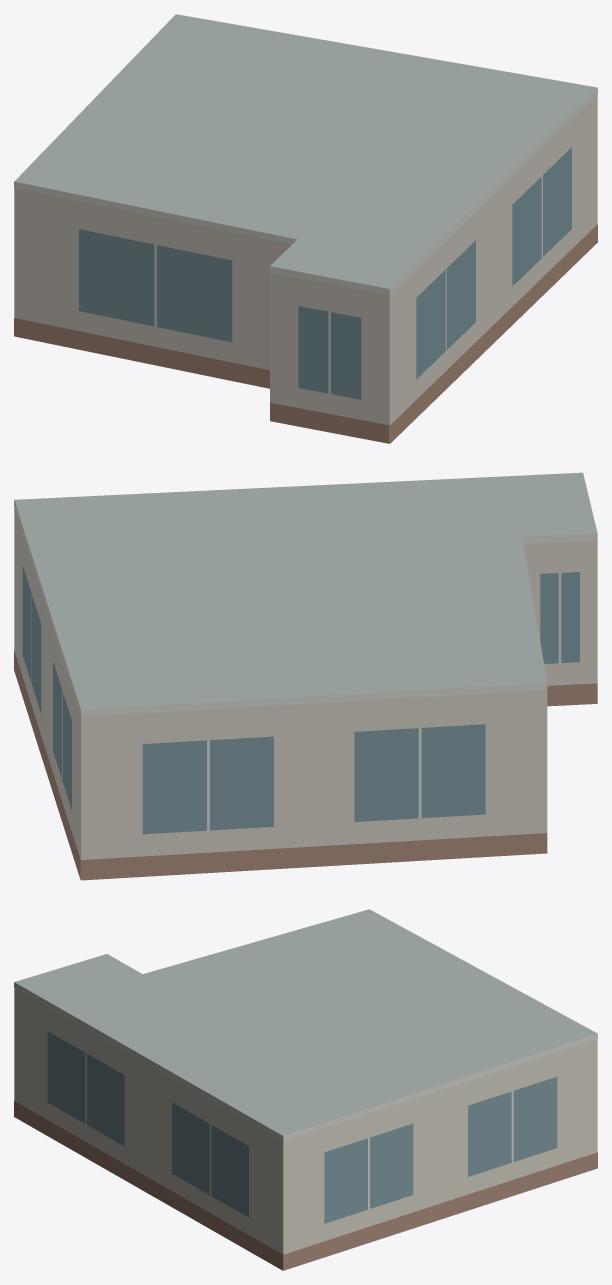
File: survey-upis-32752291.glb
3 renders of one model, top to bottom at view 1: azimuth 30°, elevation 25°; view 2: azimuth 150°, elevation 25°; view 3: azimuth 270°, elevation 25°, orthographic. The views are drawn at different scales.
Visible parts, largest first — view 1: survey-upis-32752291.tmp; view 2: survey-upis-32752291.tmp; view 3: survey-upis-32752291.tmp.
Boxes of the visible parts, bbox=[...] form: survey-upis-32752291.tmp: bbox=[14, 14, 597, 443]; survey-upis-32752291.tmp: bbox=[14, 472, 597, 880]; survey-upis-32752291.tmp: bbox=[14, 909, 597, 1270].
Size of the model in its own units: 11.02 by 3.05 by 11.98.
